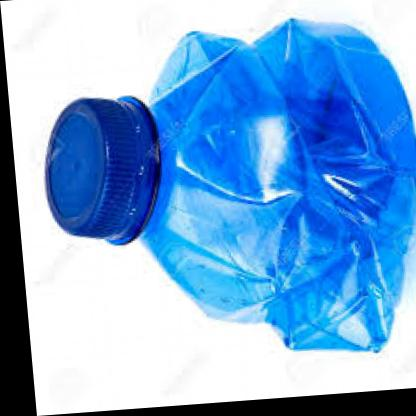Plastic: (29, 12, 416, 387)
